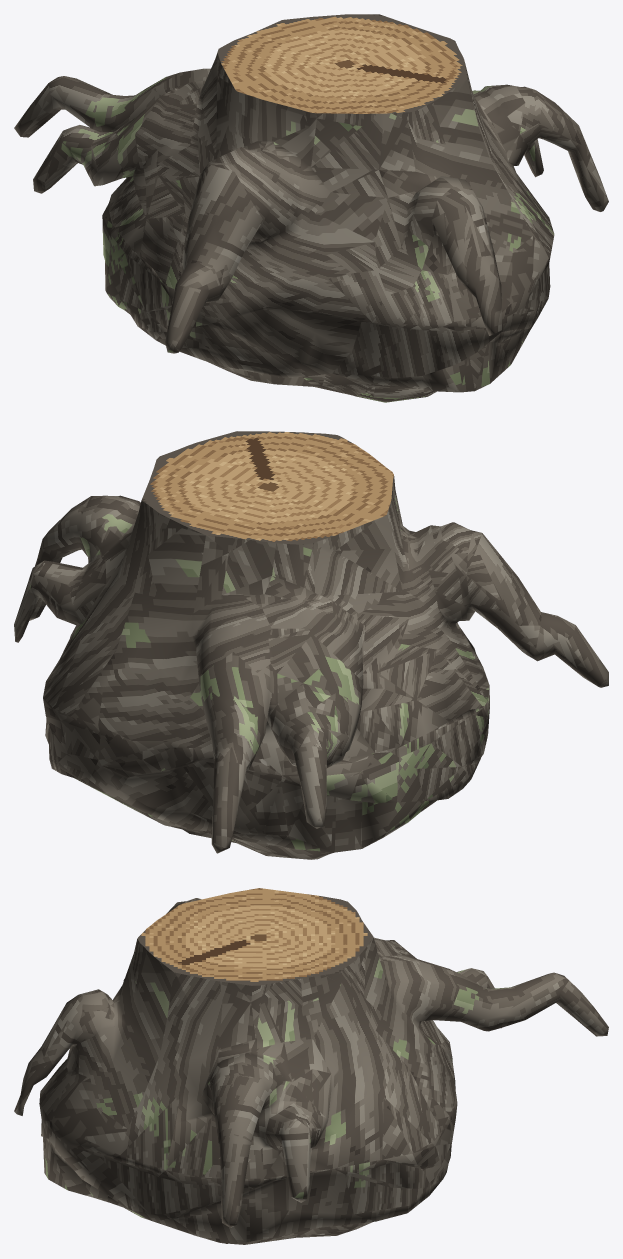
File: environment_elm2_stump_v31.fbx
3 renders of one model, top to bottom at view 1: azimuth 30°, elevation 25°; view 2: azimuth 150°, elevation 25°; view 3: azimuth 270°, elevation 25°, orthographic. The views are drawn at different scales.
Visible parts, largest first — view 1: environment_elm2_stump_v31; view 2: environment_elm2_stump_v31; view 3: environment_elm2_stump_v31.
Boxes of the visible parts, x1=… form: environment_elm2_stump_v31: x1=14, y1=14, x2=608, y2=402; environment_elm2_stump_v31: x1=14, y1=431, x2=608, y2=859; environment_elm2_stump_v31: x1=14, y1=888, x2=608, y2=1244.
Size of the model in its own units: 431 by 244 by 482.
Materials: 2 (2 with a texture image).
